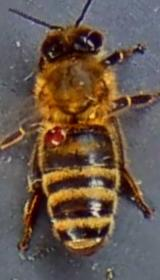varroa_mite: (40, 122, 77, 154)
